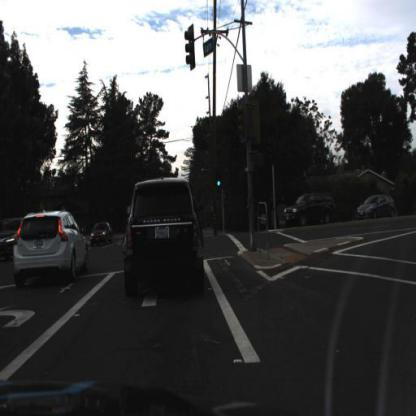car: (120, 178, 208, 300), (13, 213, 89, 288), (283, 191, 337, 227), (357, 193, 397, 221), (90, 220, 115, 248)
trafficLight-Green: (216, 165, 225, 190)
